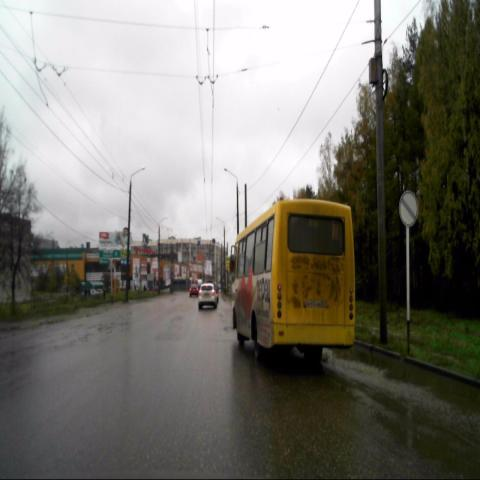3_31: (398, 190, 420, 228)
